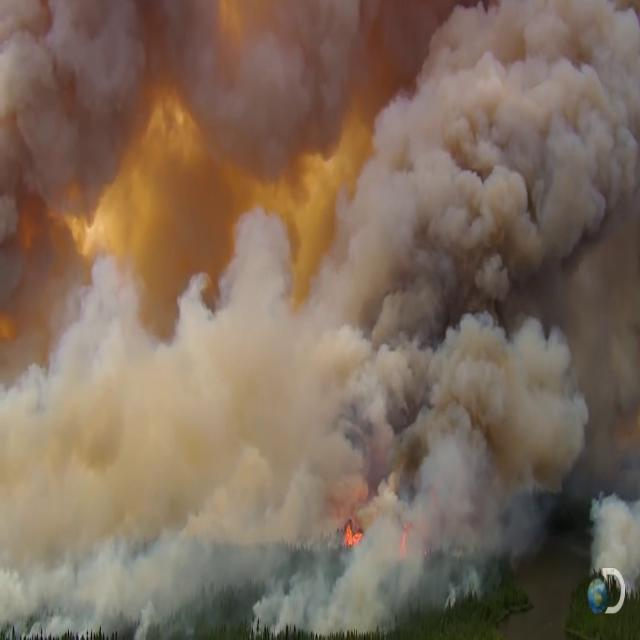Smoke: (168, 0, 640, 296), (15, 41, 136, 546), (164, 314, 219, 598)
